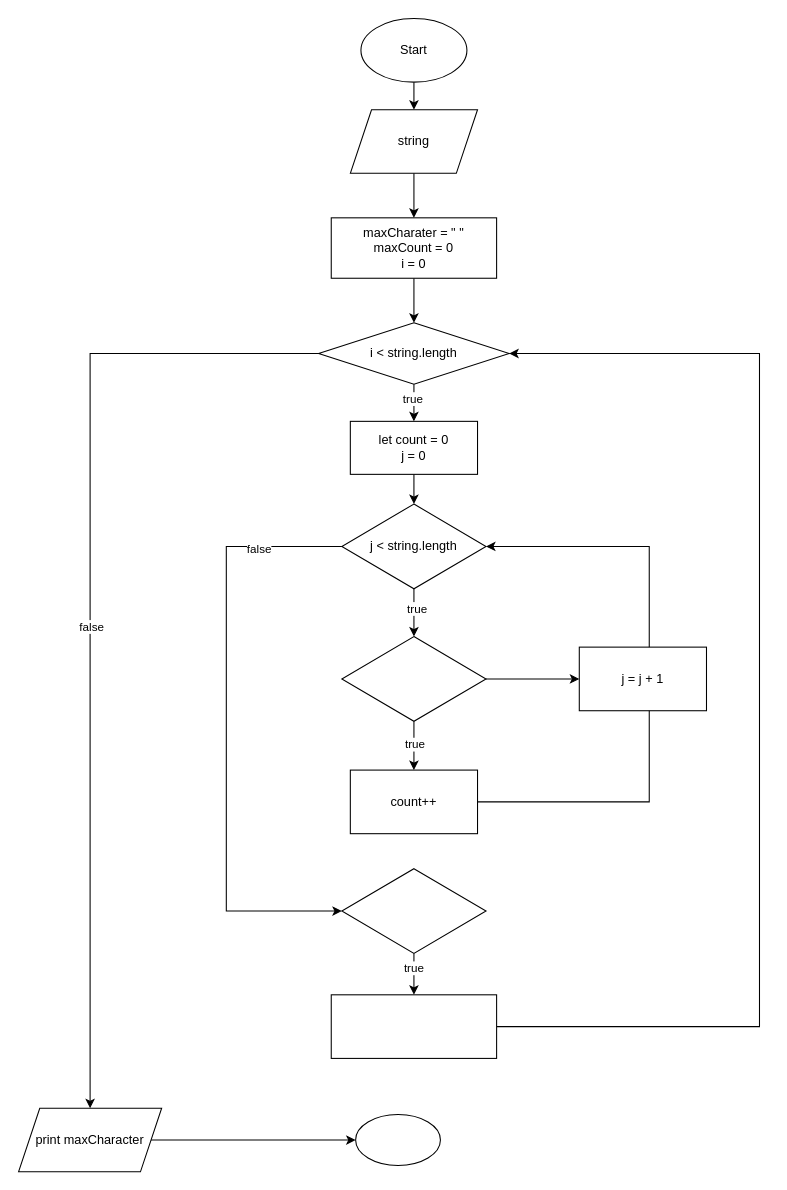
Image size: 787x1190. Some labels were removed from this diagram. The centre of each missing label's shape, as x and y in pixels:
"count > maxCount" goes at pixel 413 910.
"End" goes at pixel 397 1139.
"maxCount = count maxCharacter = string[i] i = i + 1" goes at pixel 413 1026.
"string[i] === string[j]" goes at pixel 413 678.
